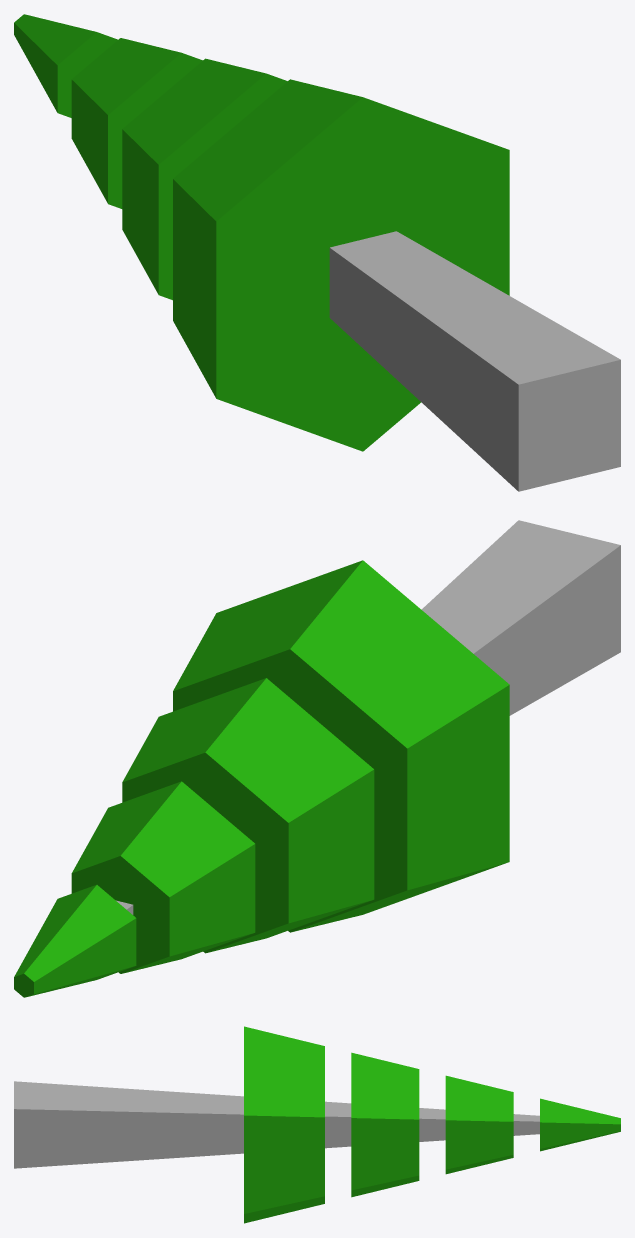
Rendered from Tree_Tall.fbx.
3 views of the same model, one above another, from view 1: azimuth 30°, elevation 25°; view 2: azimuth 150°, elevation 25°; view 3: azimuth 270°, elevation 25° (orthographic). The views are drawn at different scales.
Visible parts, largest first — view 1: 立方体; view 2: 立方体; view 3: 立方体.
Boxes of the visible parts, x1,y1,x2,y2 form: 立方体: [14, 14, 620, 491]; 立方体: [14, 520, 620, 997]; 立方体: [14, 1026, 620, 1223].
Size of the model in its own units: 11.97 by 13.82 by 38.56.
